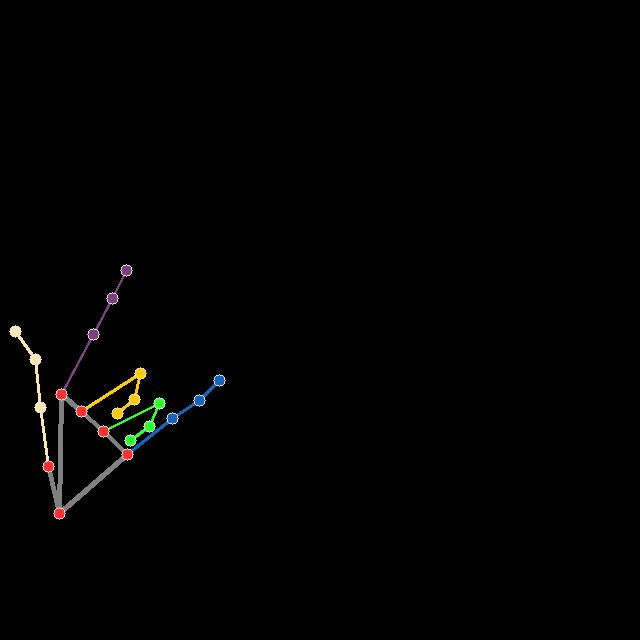spiderman: (10, 264, 226, 519)
